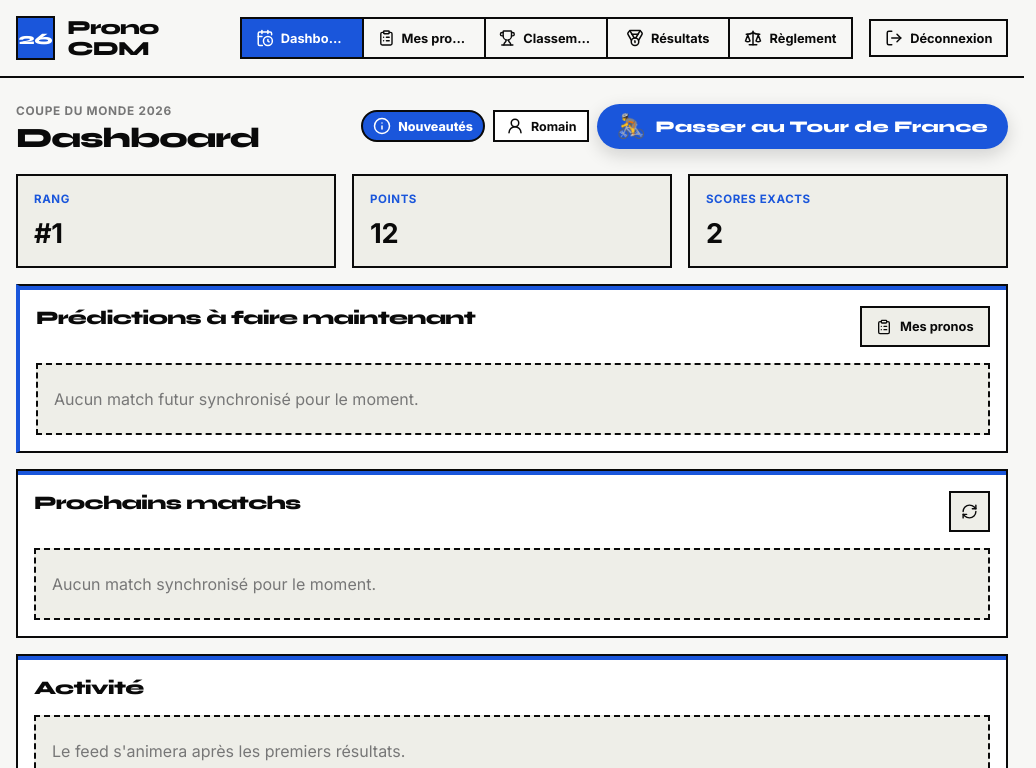
it: App components › switches the leaderboard to the weekly window
Step 1. Click the button "Classement" → (547, 38), box 486,19 -> 608,57
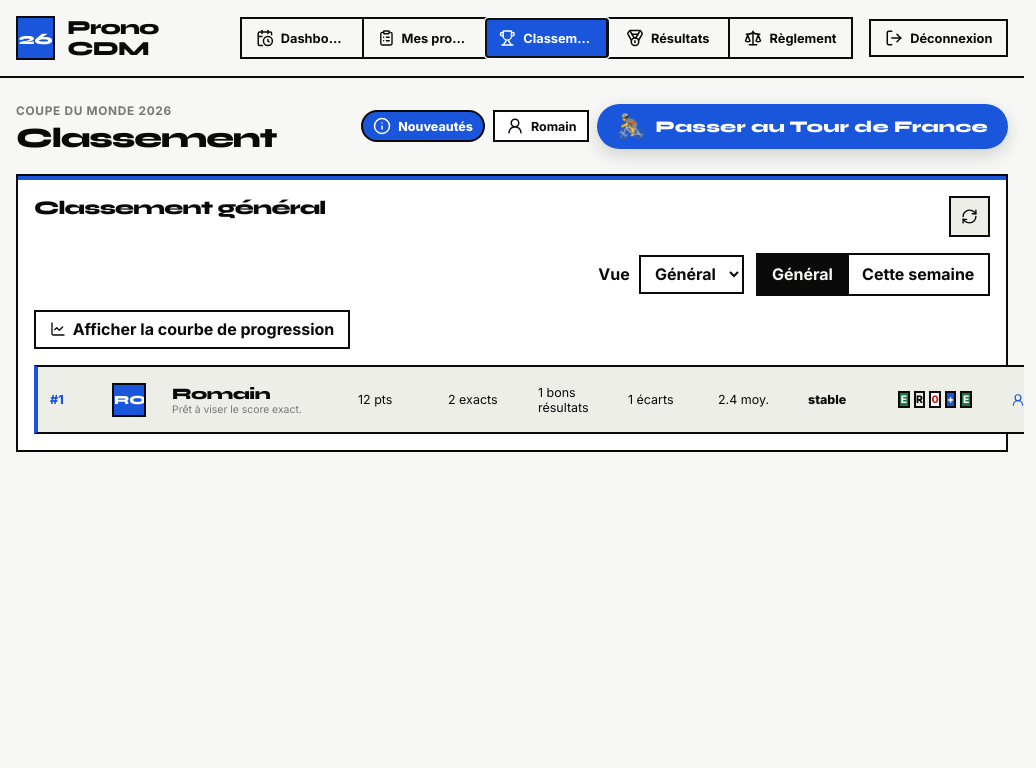
Now the heading "Classement général" is shown, box 34,196 -> 326,219
Step 2. Click the button "Cette semaine" → (917, 274), box 846,255 -> 988,294
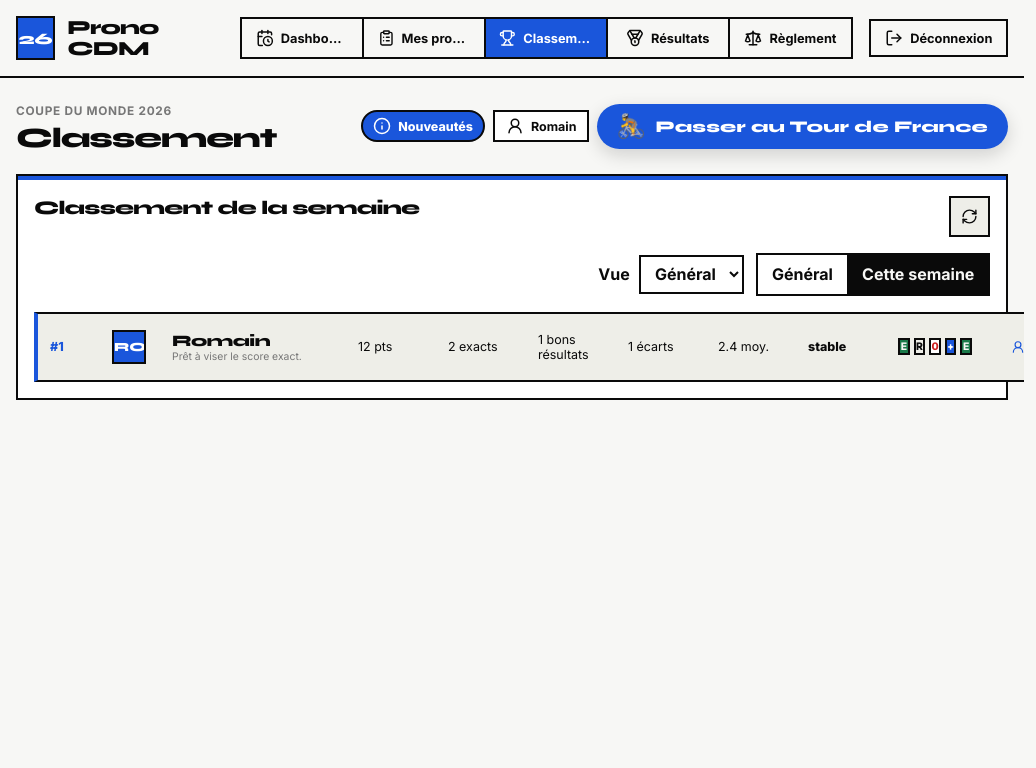
Now the heading "Classement de la semaine" is shown, box 34,196 -> 419,219
